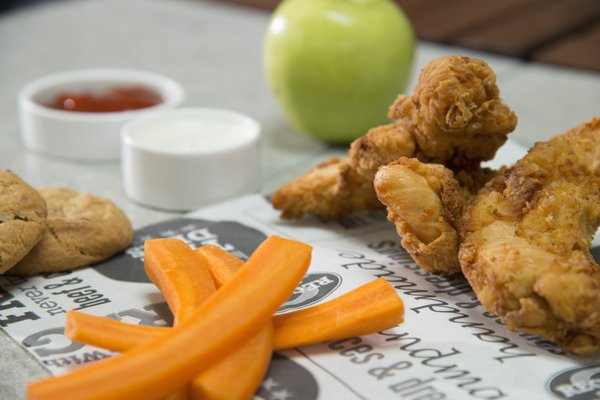pizza: (113, 105, 264, 213)
steak: (261, 0, 419, 146)
sushi: (15, 67, 185, 163), (119, 105, 264, 212)
